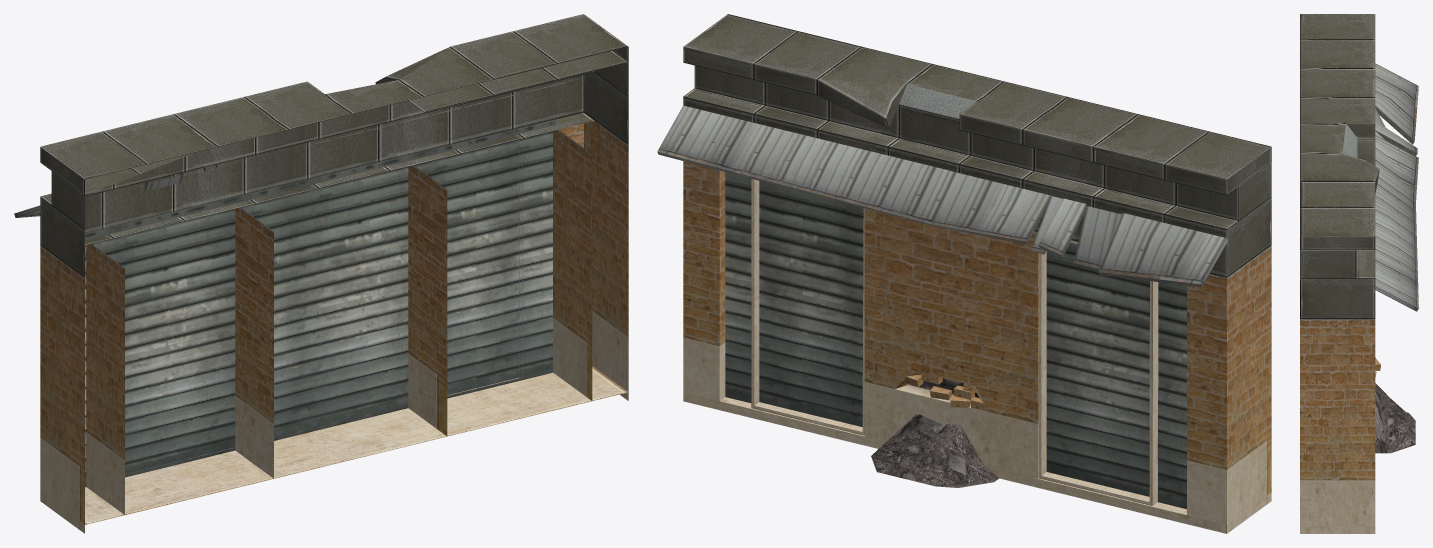
File: Store_front_26.fbx
3 views of the same model, side by side, from view 1: azimuth 30°, elevation 25°; view 2: azimuth 150°, elevation 25°; view 3: azimuth 270°, elevation 25° (orthographic). The views are drawn at different scales.
Visible parts, largest first — view 1: Store_front_26; view 2: Store_front_26; view 3: Store_front_26.
Part boxes in pixels (x1,y1,x2,y2): Store_front_26: (14, 14, 628, 533); Store_front_26: (657, 14, 1271, 533); Store_front_26: (1300, 14, 1418, 533).
Size of the model in its own units: 700 by 436 by 158.
